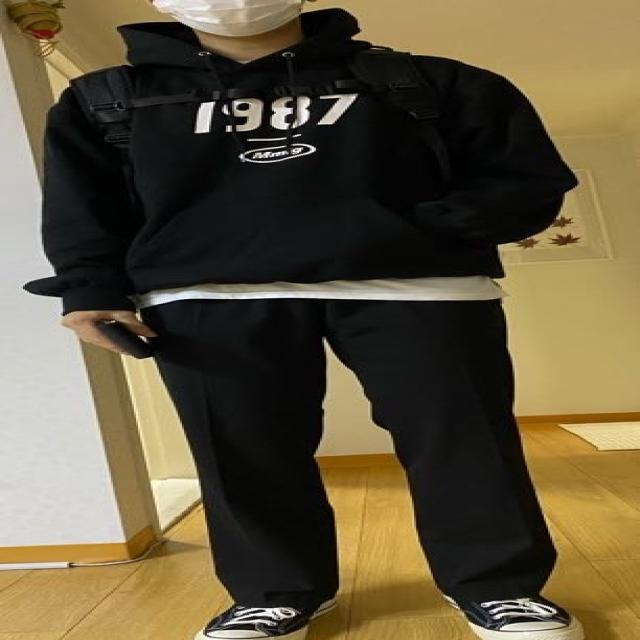hoodies: (34, 5, 583, 312)
slacks: (148, 288, 549, 612)
